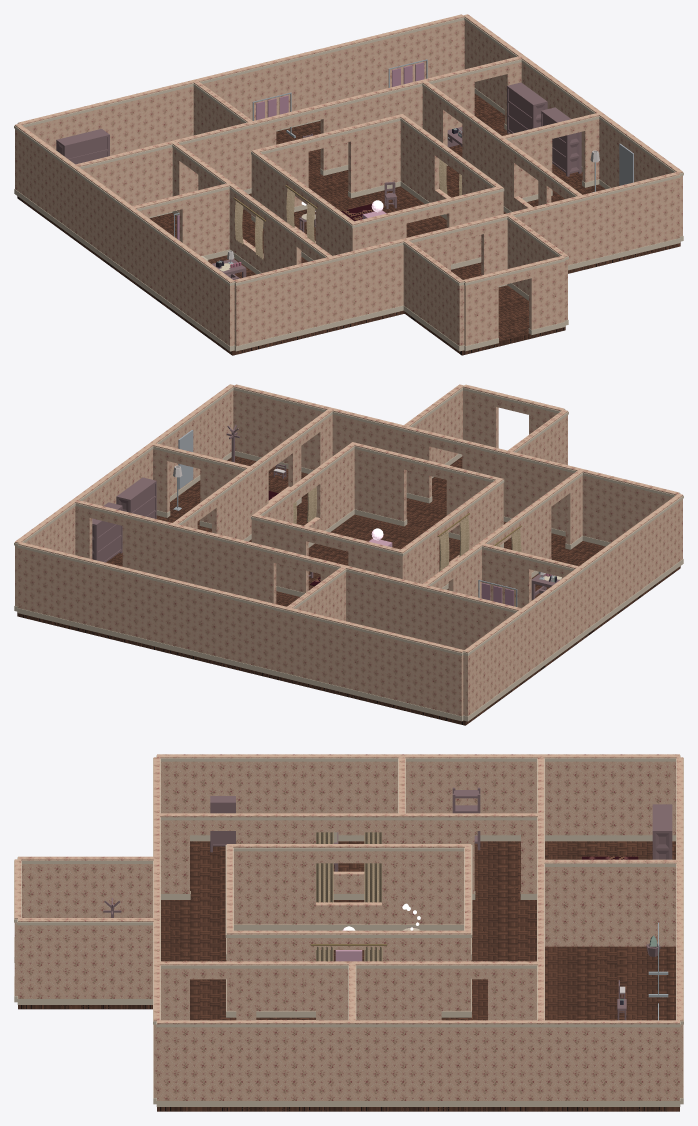
Rendered from apartment.glb.
3 views of the same model, one above another, from view 1: azimuth 30°, elevation 25°; view 2: azimuth 150°, elevation 25°; view 3: azimuth 270°, elevation 25° (orthographic). The views are drawn at different scales.
Visible parts, largest first — view 1: Exterior_North_00, Exterior_West_00, Exterior_South_W_00, Exterior_South_E_00, Exterior_East_00, Gallery_South_02, Gallery_South_04, Vestibule_West_00, Courtyard_North_02, Atelier_Store_02, Fitting_Loop_05, Courtyard_East_03 (+43 smaller); view 2: Exterior_North_00, Exterior_West_00, Gallery_South_04, Gallery_South_02, Exterior_South_W_00, Exterior_East_00, Exterior_South_E_00, Courtyard_South_02, Fitting_Loop_05, Painted skirting Exterior_North_00, Courtyard, Courtyard_East_00 (+40 smaller); view 3: Exterior_East_00, Exterior_West_00, Gallery, Vestibule_East_00.001, Vestibule_East_00, Vestibule_West_00, Fitting_Loop_05, Courtyard_West_00, Courtyard_West_03, Loop_South, Loop_North, Courtyard_East_00 (+43 smaller).
Part boxes in pixels (x1,y1,x2,y2): Exterior_North_00: [18, 14, 464, 155]; Exterior_West_00: [15, 123, 234, 346]; Exterior_South_W_00: [233, 238, 405, 346]; Exterior_South_E_00: [507, 172, 679, 265]; Exterior_East_00: [463, 14, 682, 236]; Gallery_South_02: [123, 116, 276, 206]; Gallery_South_04: [320, 67, 474, 170]; Vestibule_West_00: [403, 240, 464, 346]; Courtyard_North_02: [348, 114, 404, 193]; Atelier_Store_02: [179, 183, 229, 255]; Fitting_Loop_05: [462, 110, 518, 211]; Courtyard_East_03: [400, 116, 439, 202]; Exterior_North_00: [18, 542, 464, 716]; Exterior_West_00: [463, 493, 682, 716]; Gallery_South_04: [122, 511, 276, 603]; Gallery_South_02: [320, 560, 473, 649]; Exterior_South_W_00: [507, 451, 679, 542]; Exterior_East_00: [15, 384, 234, 606]; Exterior_South_E_00: [233, 384, 405, 469]; Courtyard_South_02: [350, 442, 406, 521]; Fitting_Loop_05: [212, 456, 268, 539]; Painted skirting Exterior_North_00: [17, 608, 463, 721]; Courtyard: [308, 514, 460, 590]; Courtyard_East_00: [316, 444, 354, 530]; Exterior_East_00: [157, 1020, 679, 1100]; Exterior_West_00: [157, 754, 679, 835]; Gallery: [541, 841, 679, 1111]; Vestibule_East_00.001: [543, 859, 679, 946]; Vestibule_East_00: [18, 918, 153, 998]; Vestibule_West_00: [18, 856, 153, 917]; Fitting_Loop_05: [316, 961, 441, 1020]; Courtyard_West_00: [233, 844, 315, 924]; Courtyard_West_03: [382, 844, 464, 924]; Loop_South: [161, 898, 229, 1020]; Loop_North: [468, 898, 536, 1020]; Courtyard_East_00: [233, 930, 315, 1011].
Bounding box in the file's own units: 19.25 × 3 × 20.25.
Materials: 19 (4 with a texture image).
